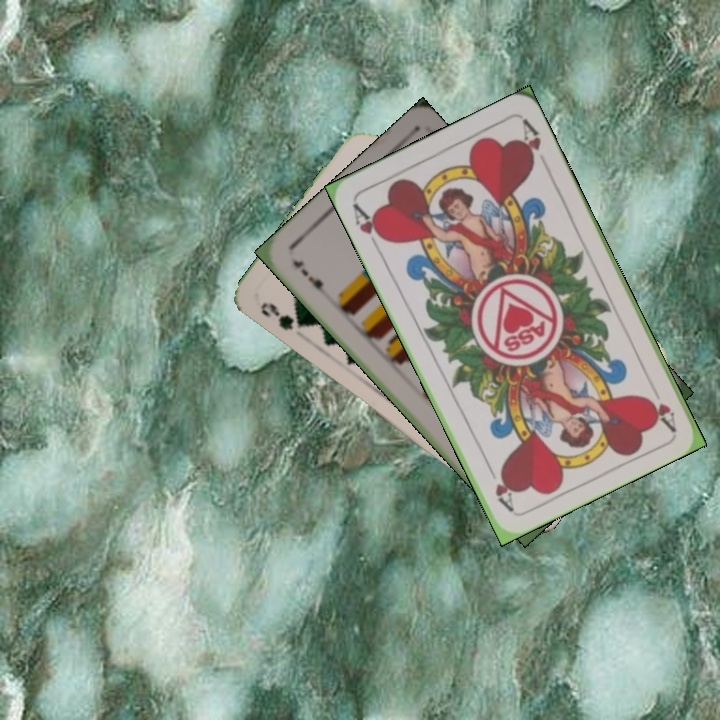E7: (288, 256, 331, 300)
G9: (256, 297, 308, 333)
HA: (348, 198, 390, 254), (644, 393, 679, 433)
